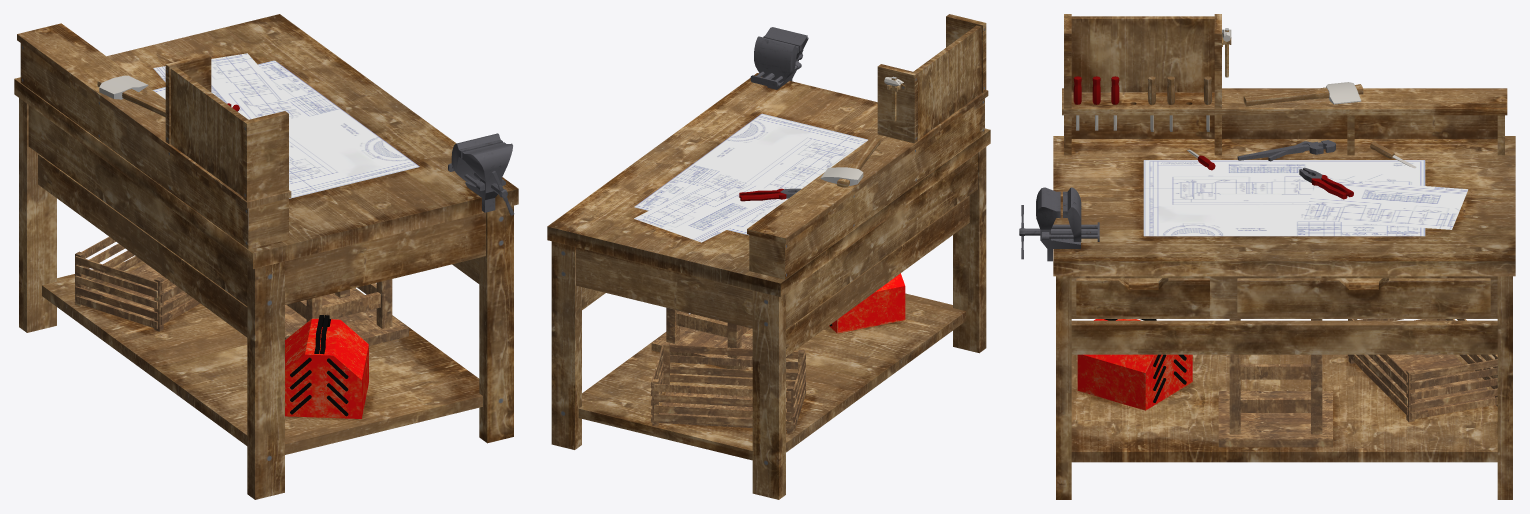
The model's file is wooden_workbench_-_free.glb.
The picture shows the model from 3 angles, left to right: view 1: azimuth 30°, elevation 25°; view 2: azimuth 150°, elevation 25°; view 3: azimuth 270°, elevation 25°; orthographic projection. The views are drawn at different scales.
Parts seen in each view (by area): view 1: Workbench, Tool_Box, Wooden box, Stool, Vise, Axe; view 2: Workbench, Wooden box, Stool, Vise, Tool_Box, Axe, Pliers; view 3: Workbench, Stool, Wooden box, Tool_Box, Vise, Axe, Chisel, Screwdriver, Adjustable wrench, Pliers.
Boxes of the visible parts, box(x1,y1,x2,y2) form: Workbench: box(14, 14, 518, 499); Tool_Box: box(285, 315, 368, 418); Wooden box: box(75, 236, 200, 331); Stool: box(285, 279, 408, 345); Vise: box(448, 133, 514, 215); Axe: box(97, 75, 165, 117); Workbench: box(547, 14, 990, 499); Wooden box: box(651, 342, 805, 433); Stool: box(651, 307, 752, 369); Vise: box(750, 27, 808, 89); Tool_Box: box(829, 273, 905, 333); Axe: box(820, 137, 880, 187); Pliers: box(739, 188, 801, 201); Workbench: box(1053, 14, 1515, 499); Stool: box(1218, 319, 1332, 447); Wooden box: box(1348, 319, 1497, 422); Tool_Box: box(1077, 319, 1192, 410); Vise: box(1019, 187, 1099, 261); Axe: box(1243, 82, 1363, 106); Chisel: box(1148, 76, 1416, 168); Screwdriver: box(1073, 76, 1215, 170); Adjustable wrench: box(1237, 140, 1335, 161); Pliers: box(1299, 167, 1353, 199).
Bounding box in the file's own units: 0.9019 × 1.21 × 1.5.
Materials: 2 (2 with a texture image).
